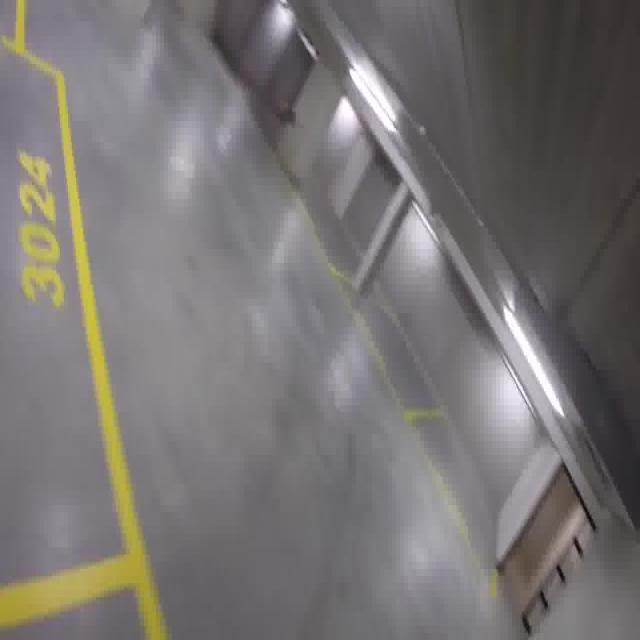drones: (271, 90, 301, 136)
